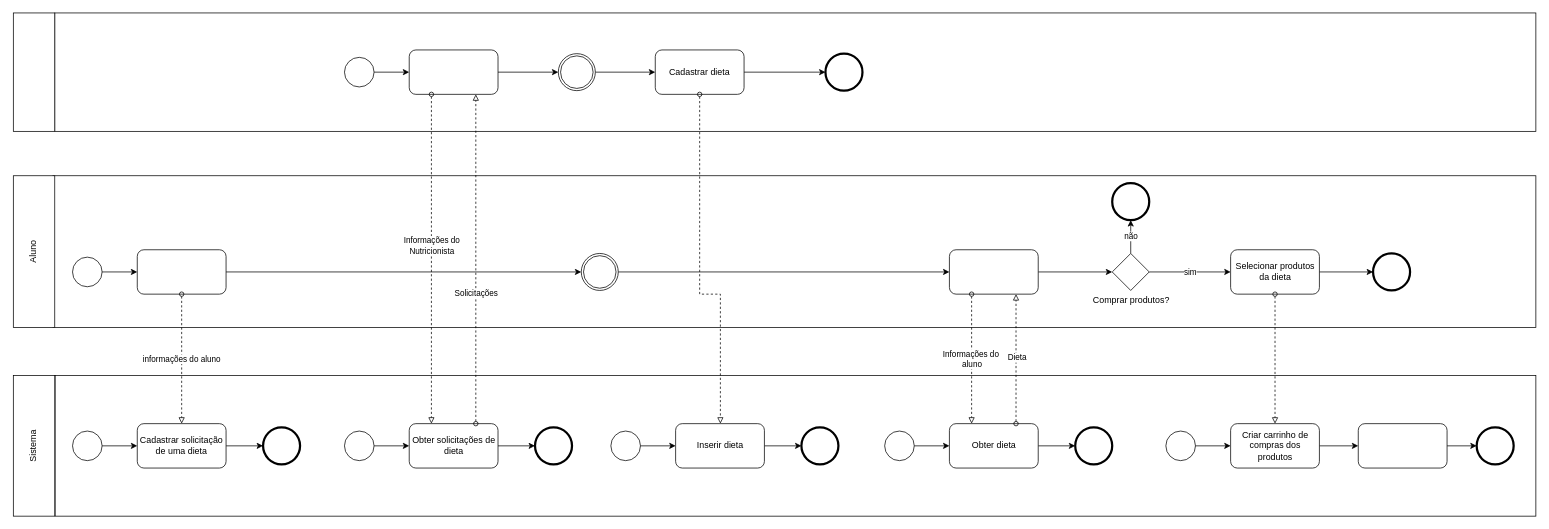
Image size: 1549x529. Some labels were removed from this diagram. Each missing label, with the box of its shape:
Consultar Dieta: (949, 249, 1038, 294)
Consultar solicitações de dieta: (408, 49, 498, 94)
Enviar o carrinho de compras para o sistema do supermercado: (1358, 423, 1447, 468)
Nutricionista: (13, 12, 55, 131)
Solicitar Dieta: (137, 249, 226, 294)
